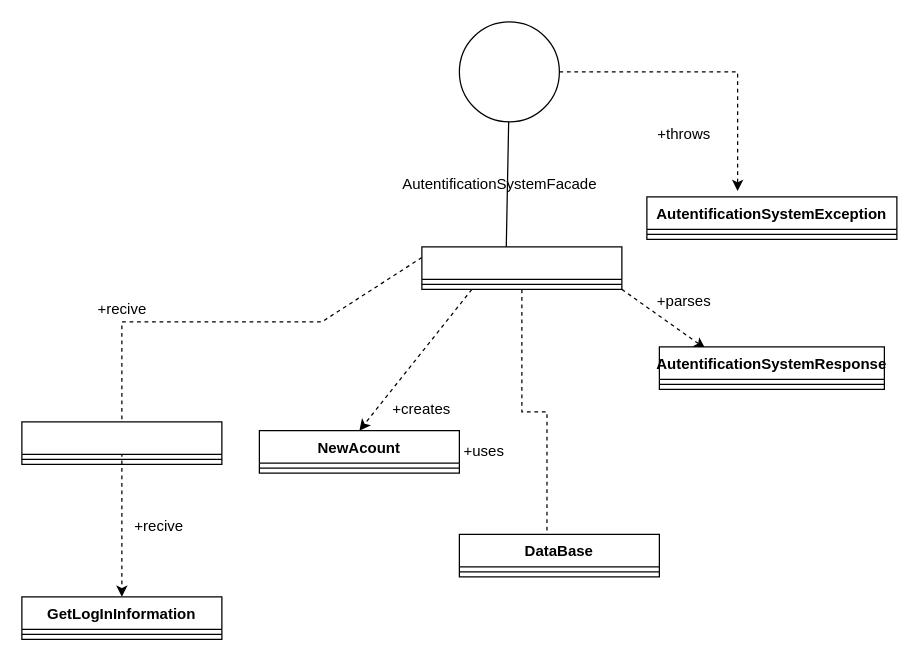
Image size: 919x661. Some labels were removed from this diagram. Each missing label, with the box of its shape:
AutentificationSystemImpl: (421, 246, 622, 289)
GetNewLogIn: (21, 421, 222, 464)
